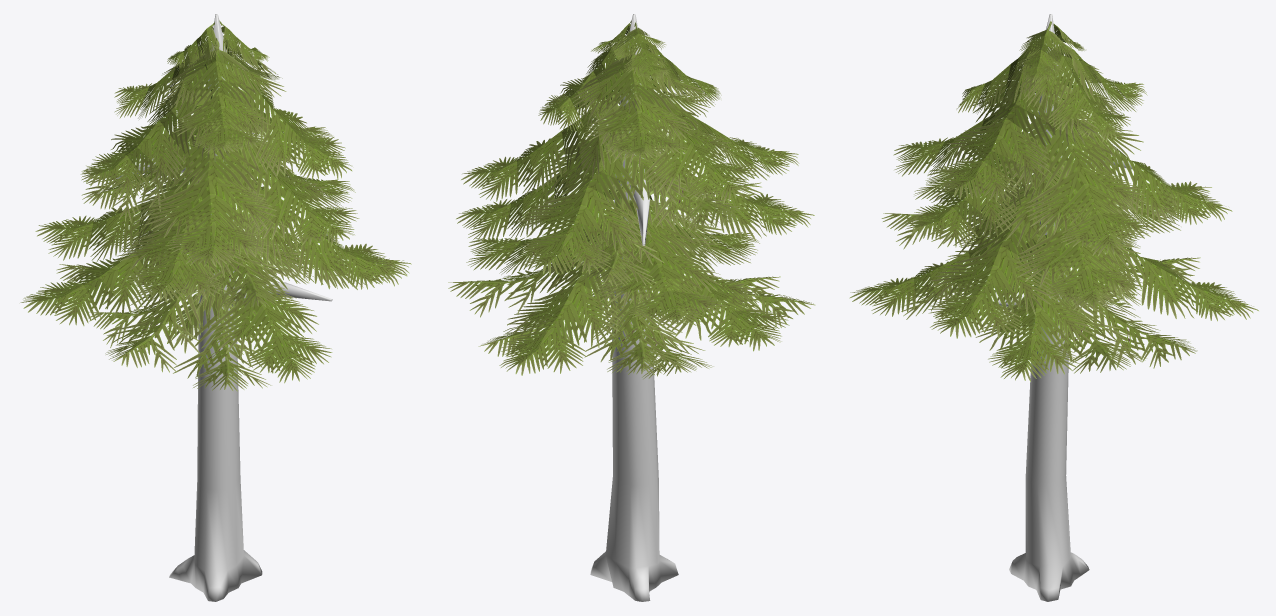
The model's file is Pine_Tree.fbx.
3 views of the same model, side by side, from view 1: azimuth 30°, elevation 25°; view 2: azimuth 150°, elevation 25°; view 3: azimuth 270°, elevation 25° (orthographic).
Parts seen in each view (by area): view 1: Pine_Tree.002; view 2: Pine_Tree.002; view 3: Pine_Tree.002.
Part boxes in pixels (x1=…): Pine_Tree.002: x1=20, y1=14, x2=411, y2=601; Pine_Tree.002: x1=448, y1=14, x2=815, y2=601; Pine_Tree.002: x1=849, y1=14, x2=1258, y2=601.
Bounding box in the file's own units: 2.65 × 4.06 × 2.7.
